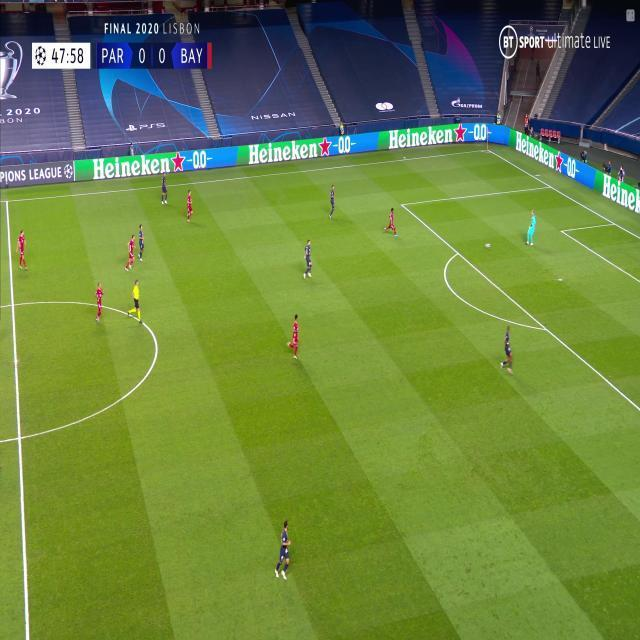ball: (485, 241, 491, 249)
goalkeeper: (525, 209, 537, 247)
player: (275, 520, 293, 581), (500, 326, 516, 375), (287, 314, 302, 361), (16, 229, 28, 272), (302, 238, 314, 279), (384, 206, 399, 237), (94, 282, 105, 323), (125, 233, 136, 272), (136, 223, 146, 262), (328, 183, 337, 219), (160, 170, 169, 205), (185, 188, 194, 223)
referee: (129, 278, 143, 326)
